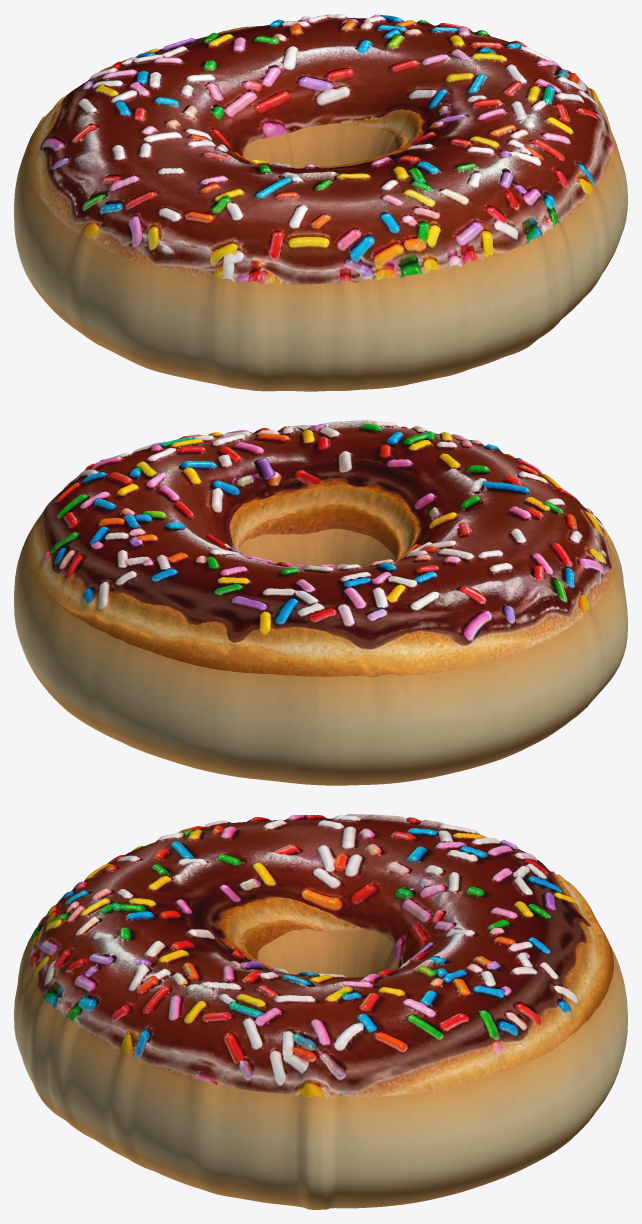
Rendered from sprinkle-donut.glb.
3 views of the same model, one above another, from view 1: azimuth 30°, elevation 25°; view 2: azimuth 150°, elevation 25°; view 3: azimuth 270°, elevation 25° (orthographic). The views are drawn at different scales.
Visible parts, largest first — view 1: Donut; view 2: Donut; view 3: Donut.
Boxes of the visible parts, x1=… form: Donut: x1=14, y1=14, x2=627, y2=391; Donut: x1=14, y1=420, x2=627, y2=785; Donut: x1=14, y1=814, x2=627, y2=1209.
Size of the model in its own units: 2.07 by 0.7043 by 1.96.
2 materials, 2 textured.
